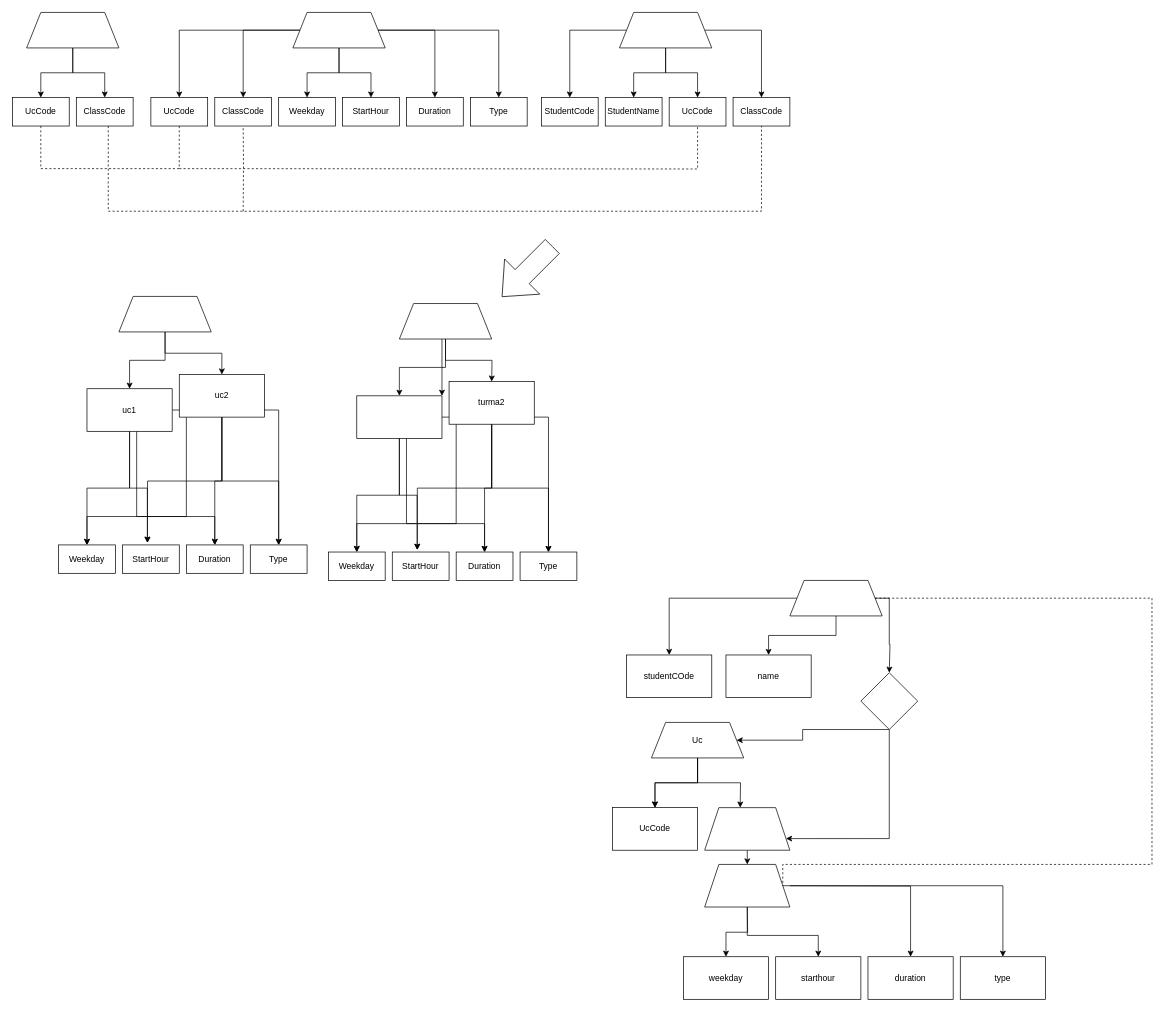
The diagram is 1165 pixels wide and 1012 high, and some of its shapes have lost their labels. Each missing label, with the centre of its shape:
"aulas" belongs at (747,885).
"cadeira" belongs at (445,321).
"classes.csv" belongs at (338,30).
"classes_per_uc.csv" belongs at (72,30).
"lista de" belongs at (889,701).
"student" belongs at (835,598).
"student_classes.csv" belongs at (665,30).
"turma" belongs at (164,314).
"turma1" belongs at (399,416).
"turmas" belongs at (747,828).
